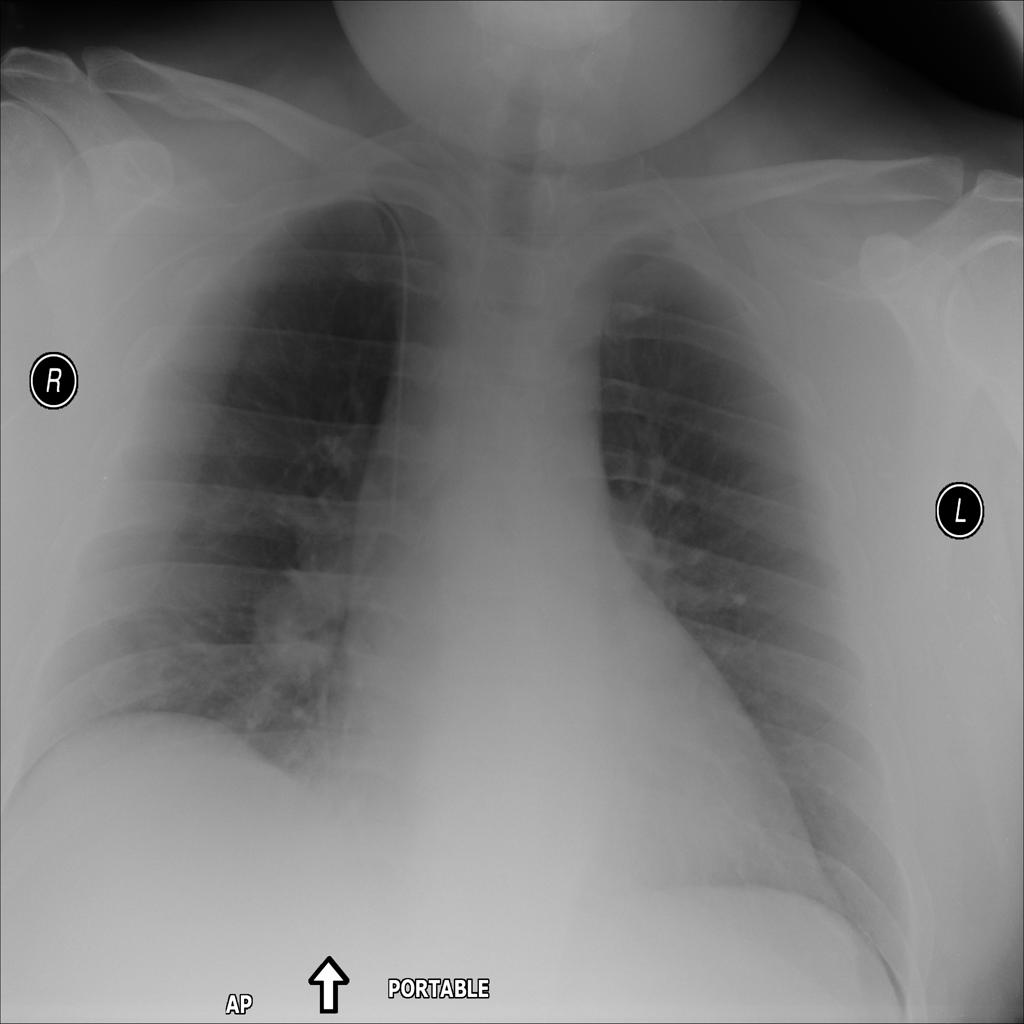nodule: (239, 556, 357, 697)
